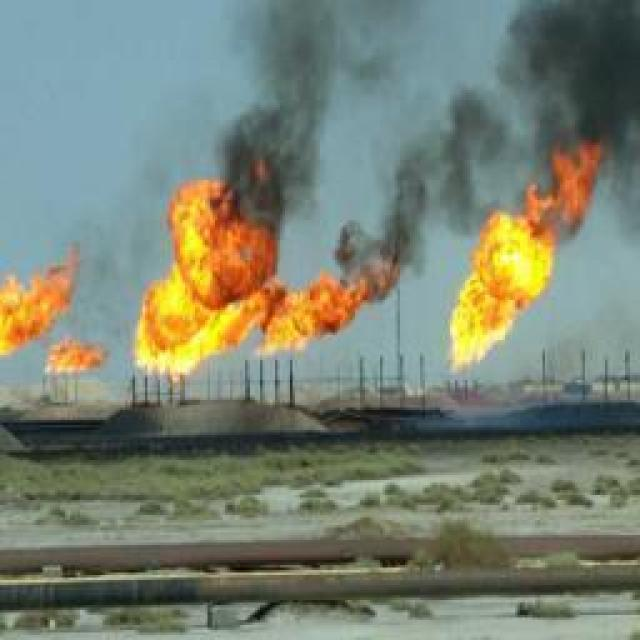fire: (135, 178, 378, 375), (452, 213, 556, 370), (45, 338, 107, 379)
smoke: (342, 0, 637, 286), (211, 0, 452, 233), (53, 65, 242, 359)
